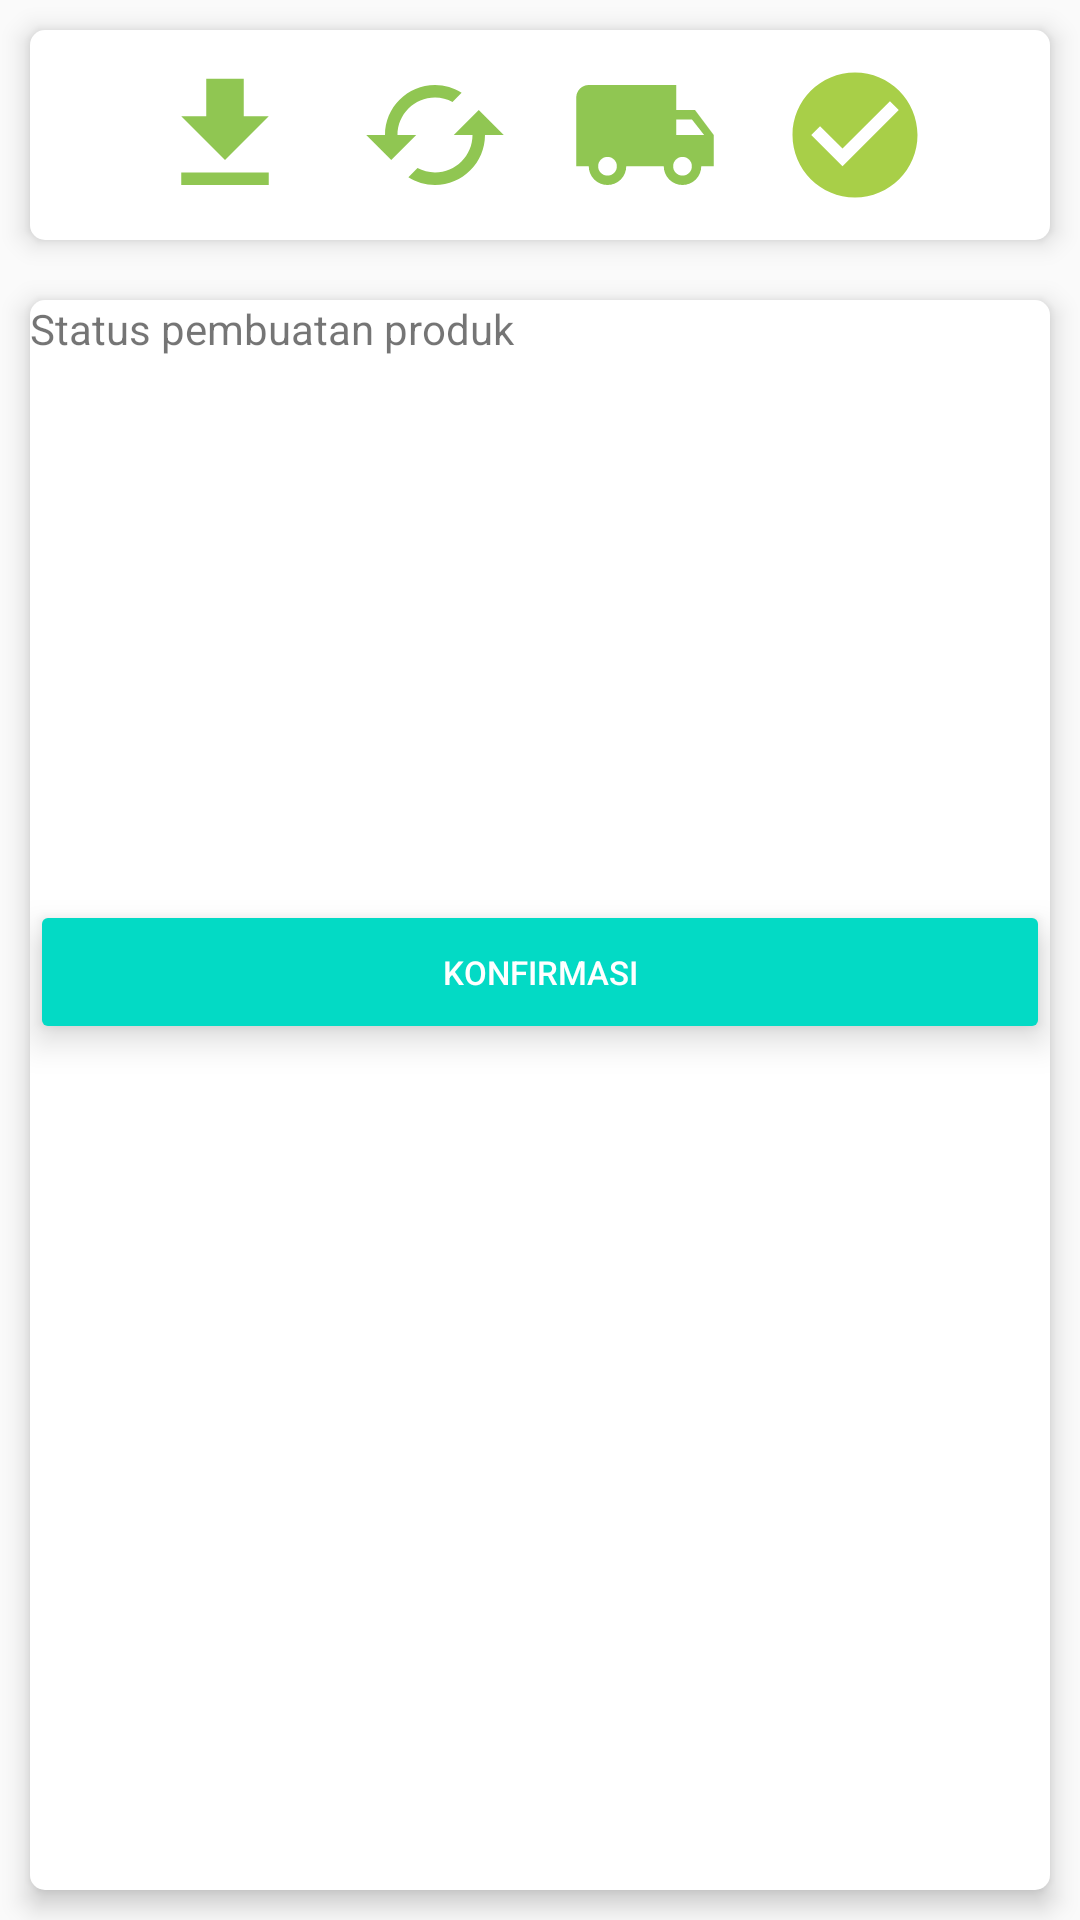

Where to tap for icons on this 1080*1920 app screen, as (x,y):
check circle: (855,135)
dikerjakan: (435,135)
dikirim: (645,135)
diterima: (225,131)
